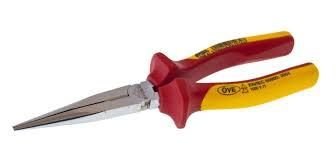pliers: (11, 29, 319, 131)
